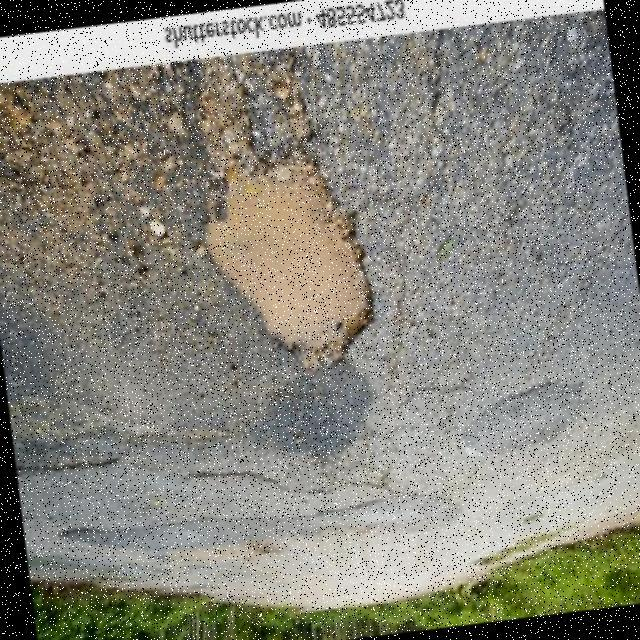Pothole: (205, 146, 374, 370)
